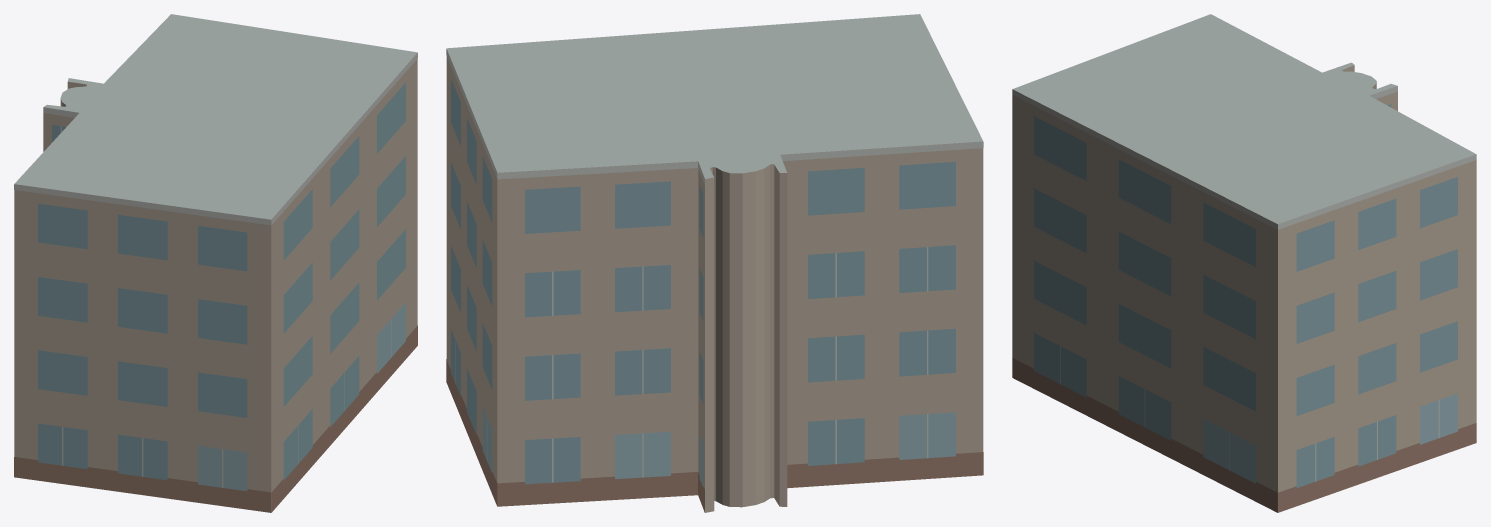
The model's file is survey-upis-32535299.glb.
3 renders of one model, left to right at view 1: azimuth 30°, elevation 25°; view 2: azimuth 150°, elevation 25°; view 3: azimuth 270°, elevation 25°, orthographic. The views are drawn at different scales.
Parts seen in each view (by area): view 1: survey-upis-32535299.tmp; view 2: survey-upis-32535299.tmp; view 3: survey-upis-32535299.tmp.
Part boxes in pixels (box(x1,y1,x2,y2)): survey-upis-32535299.tmp: box(14, 14, 417, 512); survey-upis-32535299.tmp: box(446, 14, 983, 512); survey-upis-32535299.tmp: box(1012, 14, 1476, 512).
Size of the model in its own units: 19.38 by 12.4 by 18.08.
